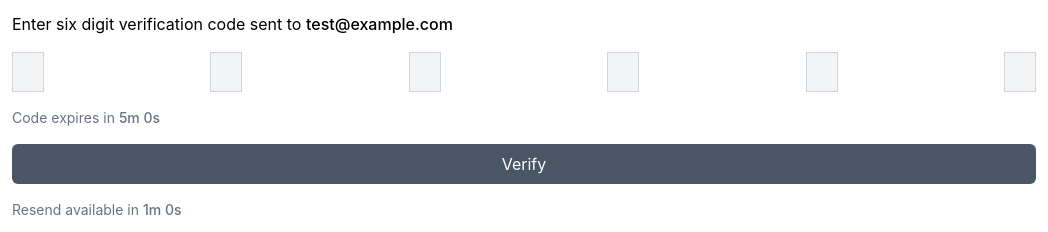
Test case: VerificationStep › disables verify button while request is pending
Type "1" into the 1st field at [28, 72], box [12,52,44,92]
Type "2" into the 2nd field at [226, 72], box [210,52,242,92]
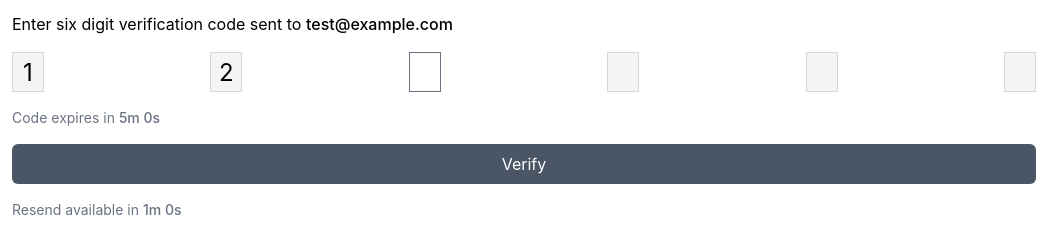
Type "3" into the 3rd field at [425, 72], box [409,52,441,92]
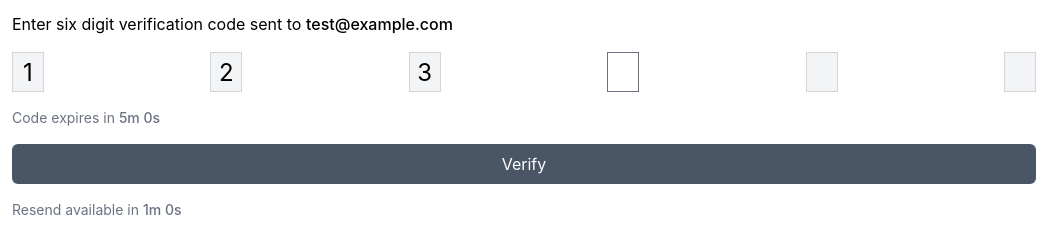
Type "4" into the 4th field at [623, 72], box [607,52,639,92]
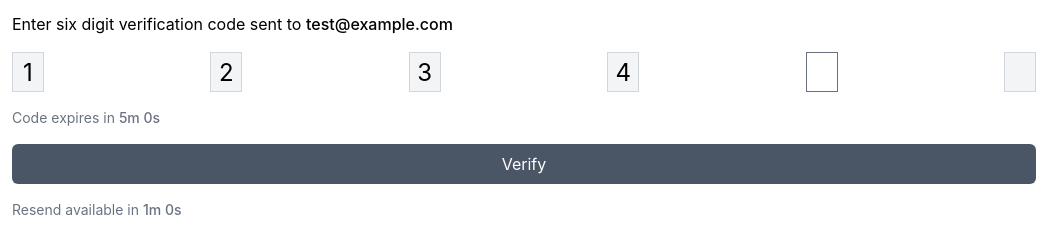
Type "5" into the 5th field at [822, 72], box [806,52,838,92]
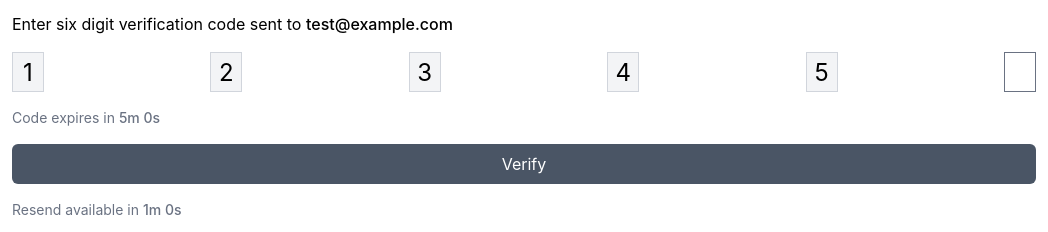
Type "6" into the 6th field at [1020, 72], box [1004,52,1036,92]
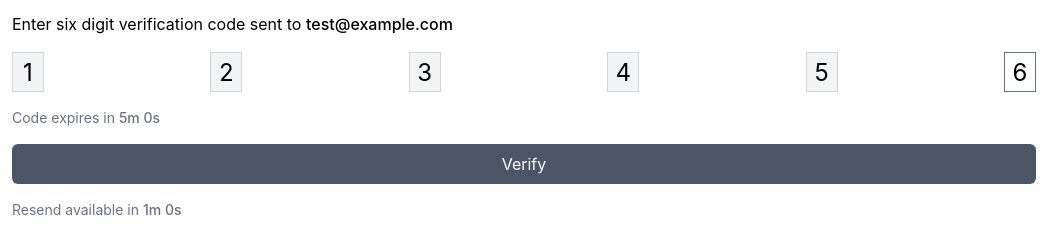
Click the button "Verify" at [524, 164], box [12,144,1036,184]
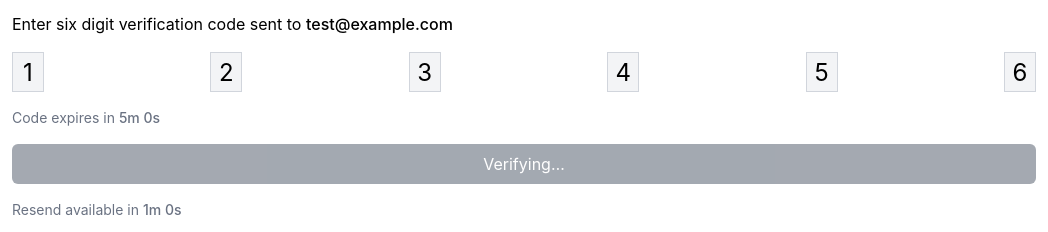
Now the button "Verifying…" is disabled, box [12,144,1036,184]
